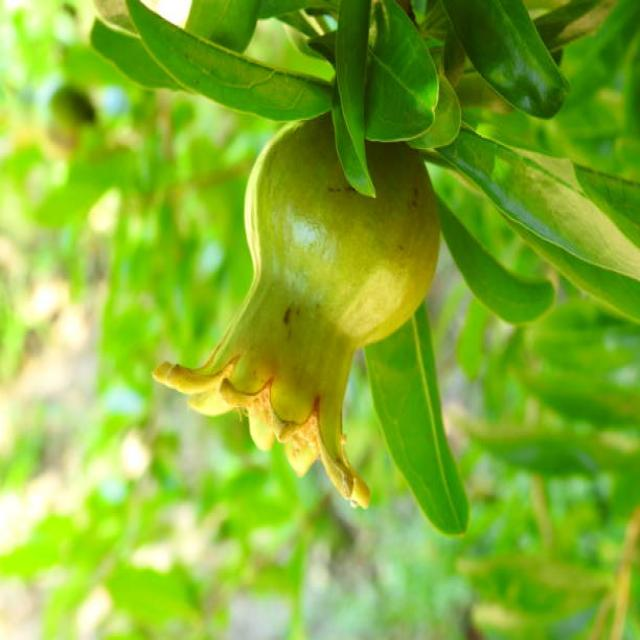Unripe: (151, 97, 439, 506)
